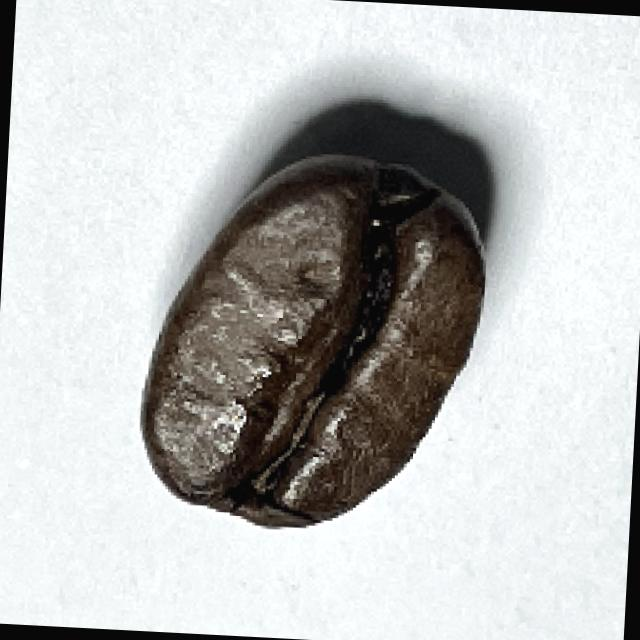bean: (132, 142, 495, 544)
